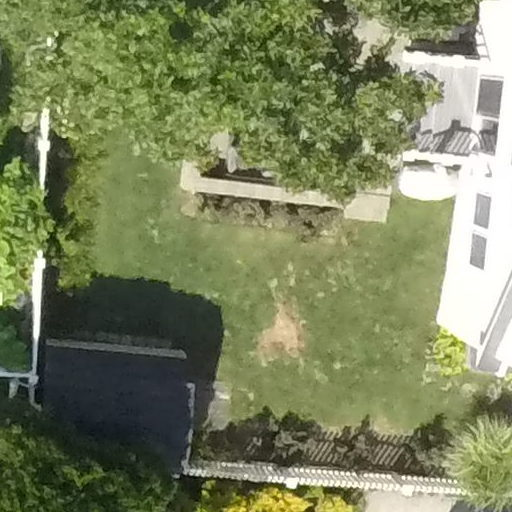fence: (183, 440, 486, 512), (22, 1, 55, 421)
